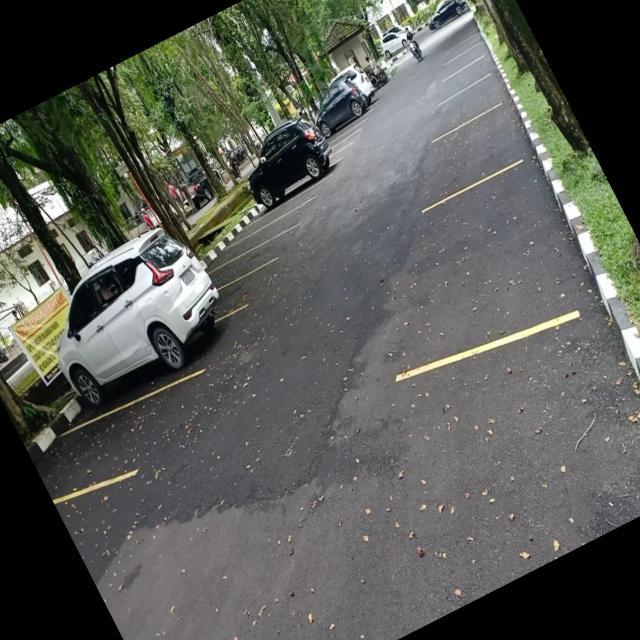empty: (398, 155, 597, 364), (28, 370, 219, 515), (414, 100, 532, 202)
occupied: (35, 249, 249, 432)
